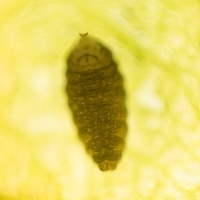insect: (66, 33, 126, 170)
